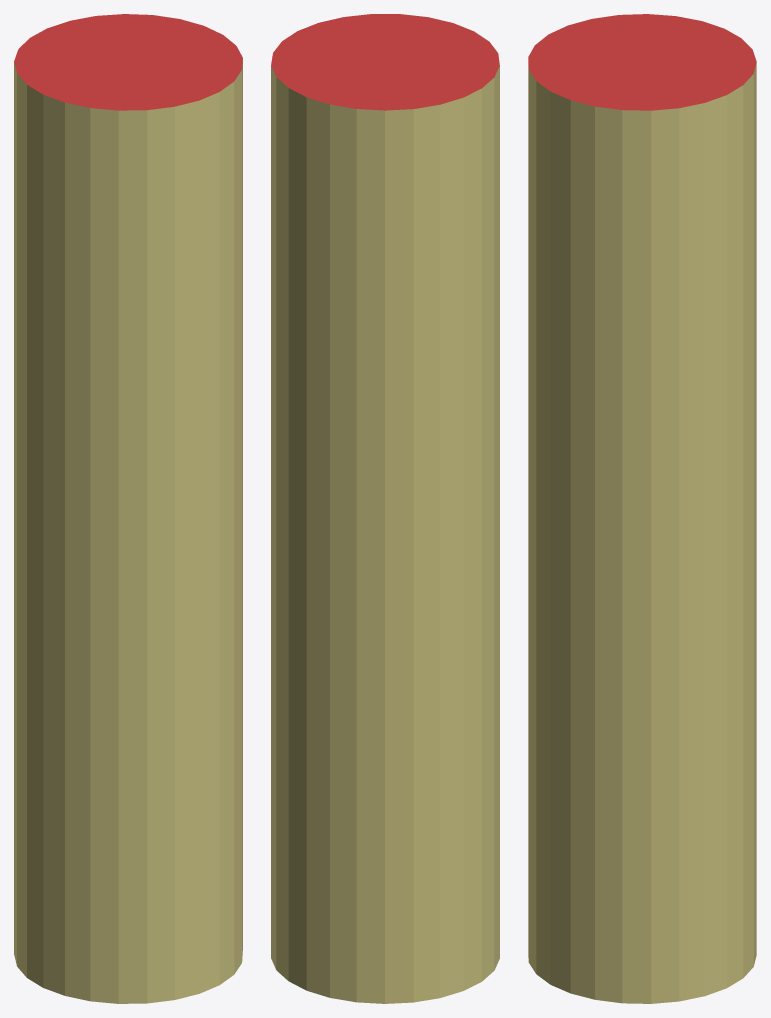
3 views of the same model, side by side, from view 1: azimuth 30°, elevation 25°; view 2: azimuth 150°, elevation 25°; view 3: azimuth 270°, elevation 25° (orthographic).
Bounding box in the file's own units: 2.51 × 2.51 × 10.81.
